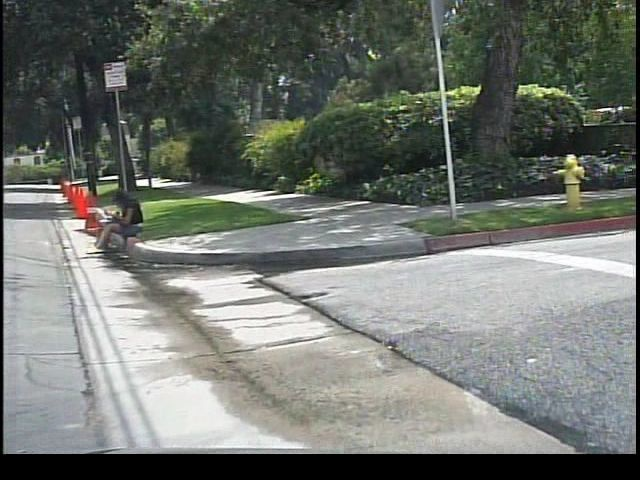person: (91, 185, 155, 255)
